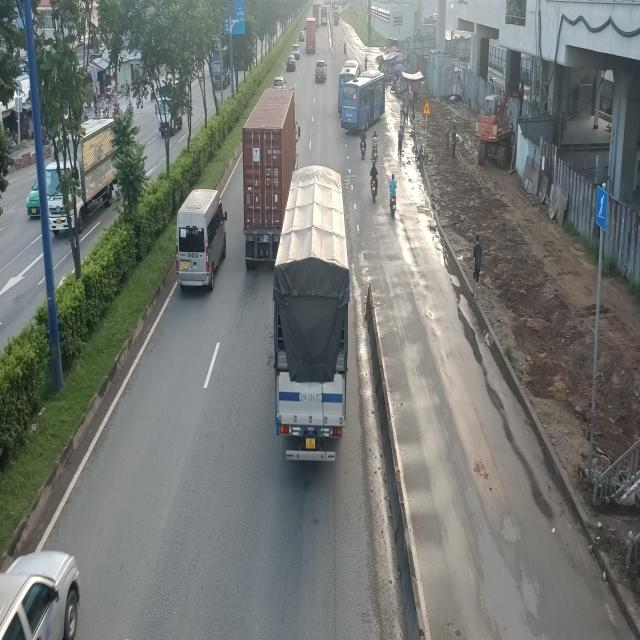coach: (338, 68, 386, 130)
container: (244, 86, 302, 266)
truck: (268, 162, 349, 462)
van: (177, 188, 231, 292)
